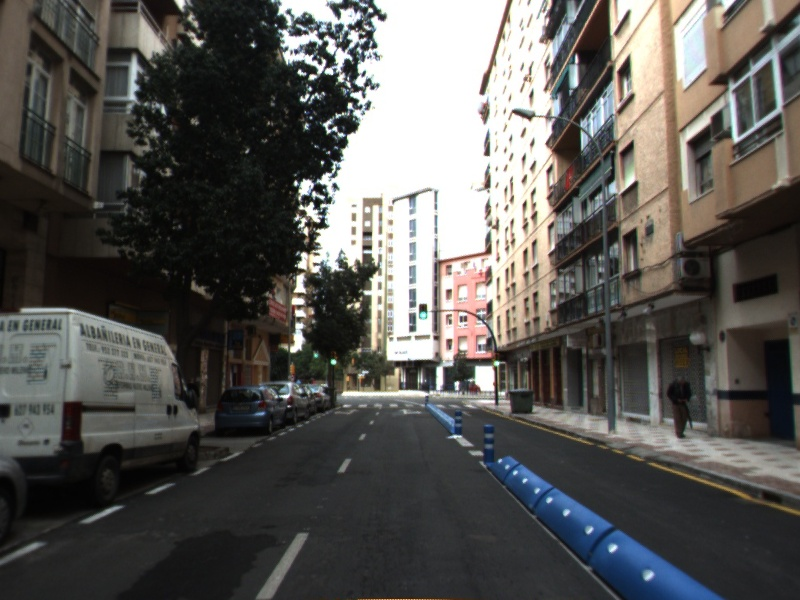STRAIGHT_LEFT: (333, 407, 360, 416)
STRAIGHT_RIGHT: (398, 407, 424, 416)
